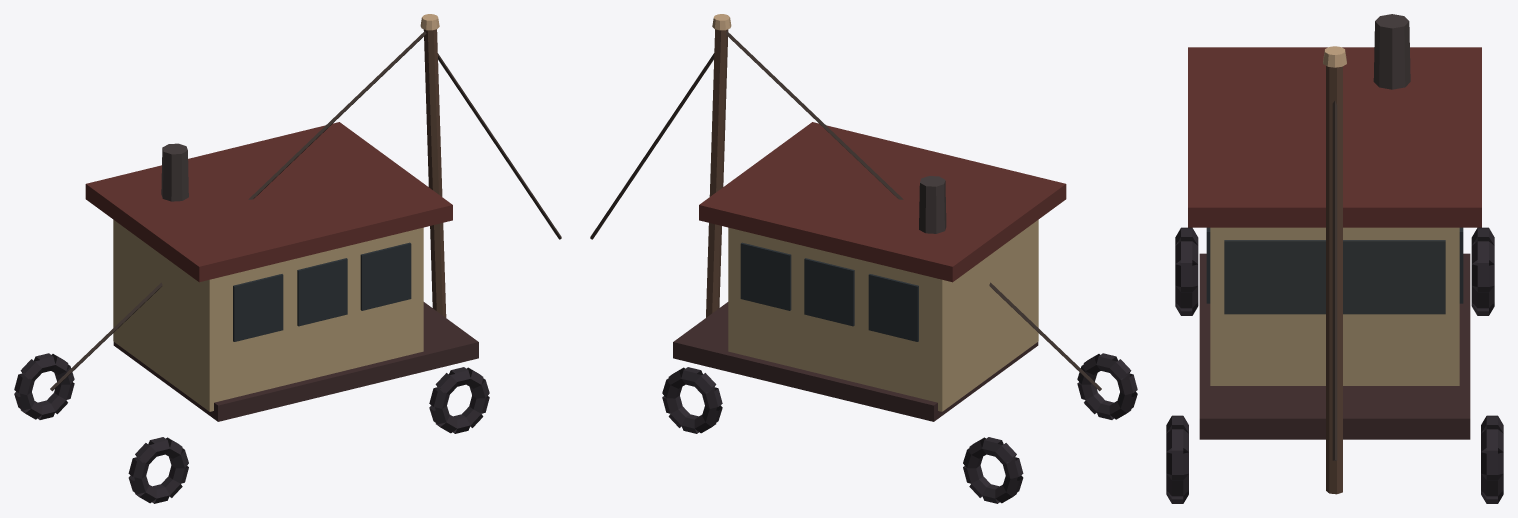
The model's file is wheelhouse.glb.
3 views of the same model, side by side, from view 1: azimuth 30°, elevation 25°; view 2: azimuth 150°, elevation 25°; view 3: azimuth 270°, elevation 25° (orthographic). The views are drawn at different scales.
Visible parts, largest first — view 1: wheelhouse; view 2: wheelhouse; view 3: wheelhouse.
Boxes of the visible parts, x1,y1,x2,y2 form: wheelhouse: (14,14,561,503); wheelhouse: (590,14,1137,503); wheelhouse: (1166,14,1503,503).
Size of the model in its own units: 2.94 by 1.99 by 1.3.
